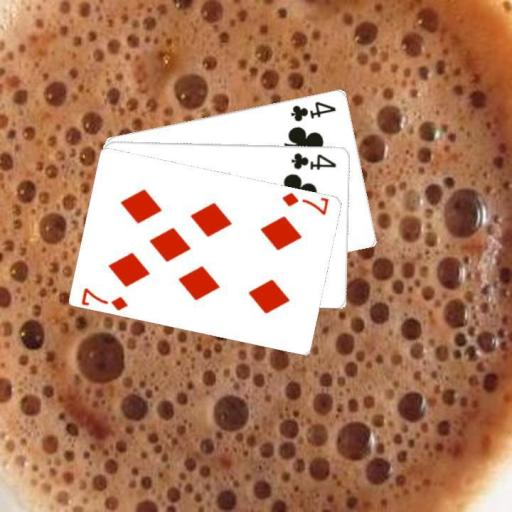card-corner: (79, 284, 130, 312), (279, 189, 330, 216), (288, 97, 338, 123), (288, 149, 338, 171)
